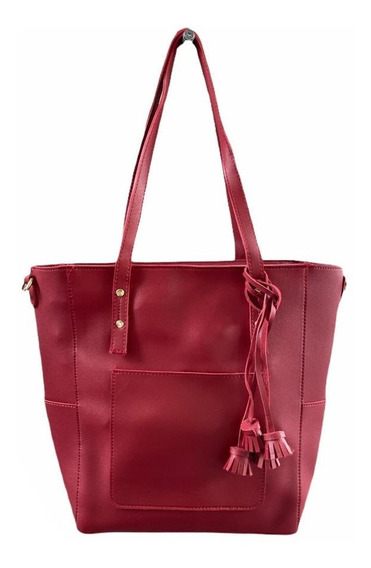cartera: (22, 26, 348, 538)
